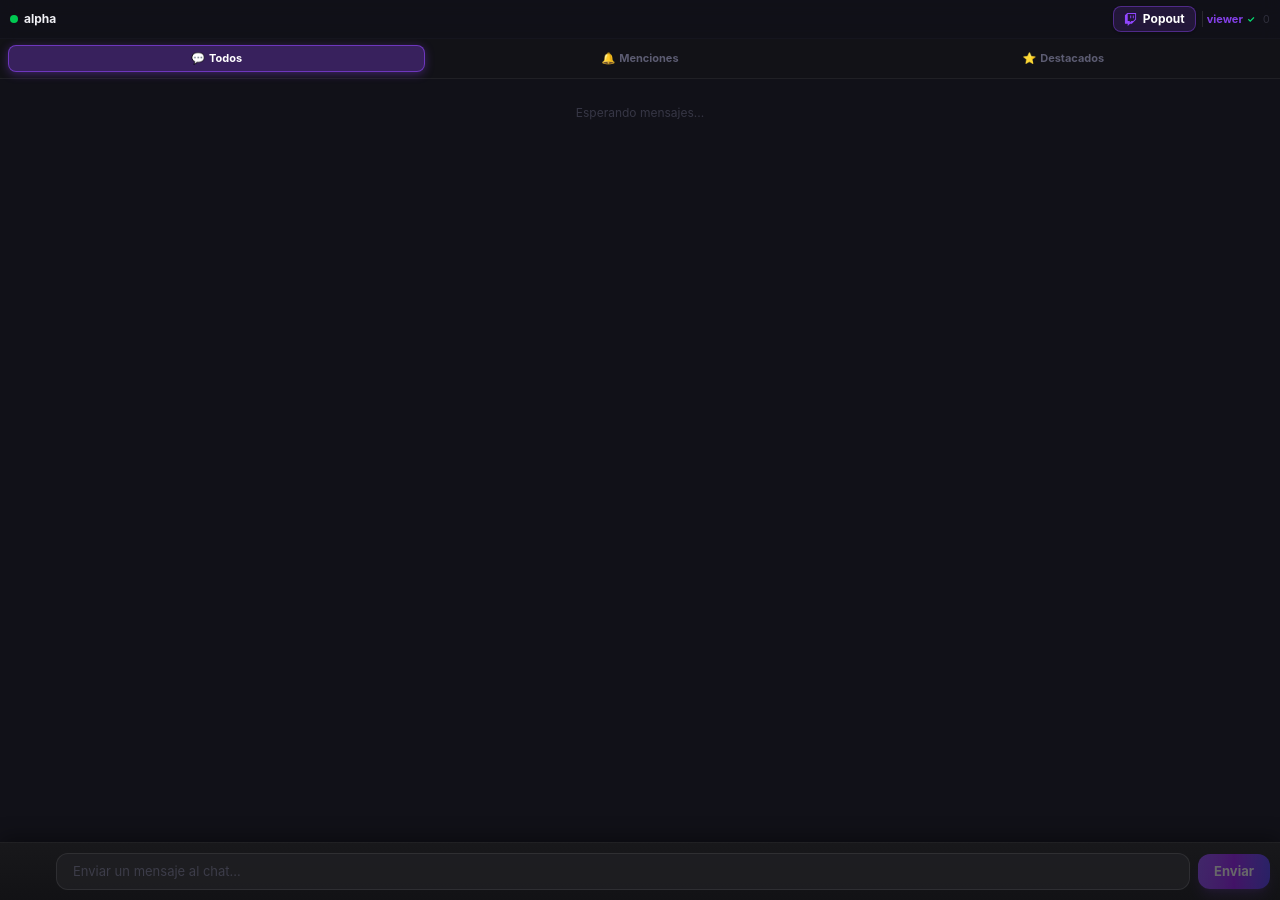
Test: unified native Chat › keeps Windows chat visible despite a saved embedded preference and opens official chat separately
Expected: the element showing "Esperando mensajes..." is shown, x1=576 y1=104 x2=704 y2=120
Click the button with aria-label "Abrir Popout Flotante" at (1154, 19), box x1=1113 y1=6 x2=1196 y2=32
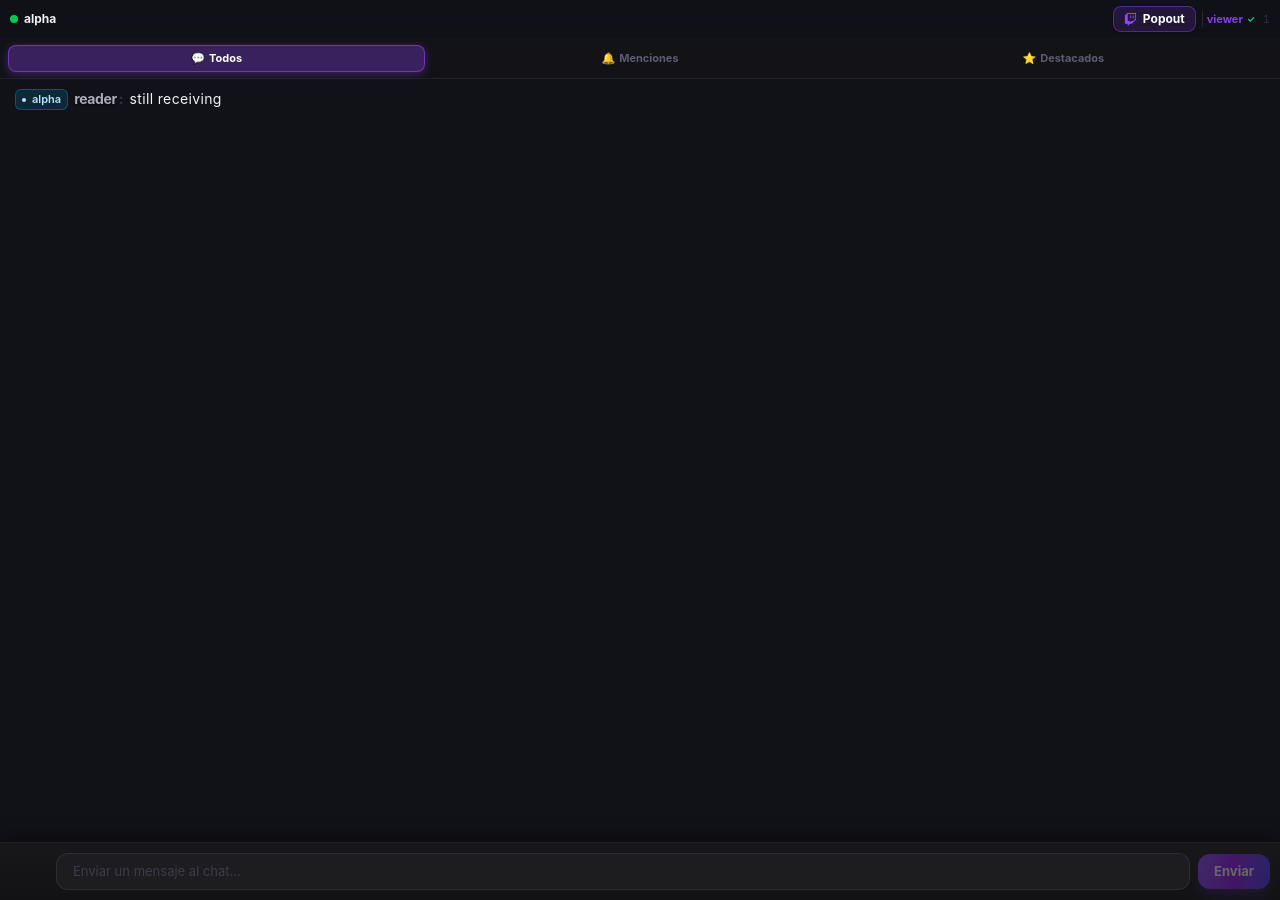
Now the text "still receiving" is shown, box x1=130 y1=90 x2=222 y2=106
